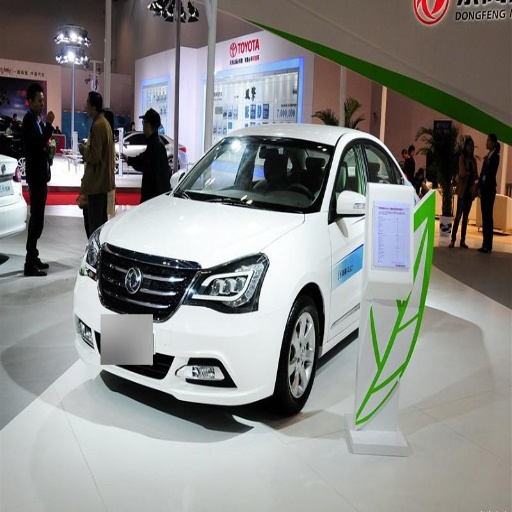front_bumper: (74, 243, 291, 406)
front_glass: (174, 138, 334, 213)
front_left_door: (328, 137, 372, 345)
